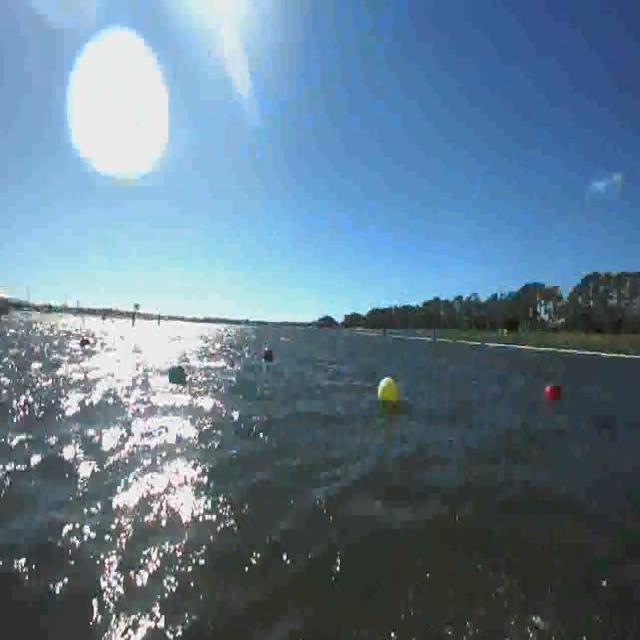green-buoy: (171, 361, 186, 385)
red-buoy: (544, 382, 560, 403), (261, 342, 274, 363)
yellow-buoy: (375, 373, 396, 402)
